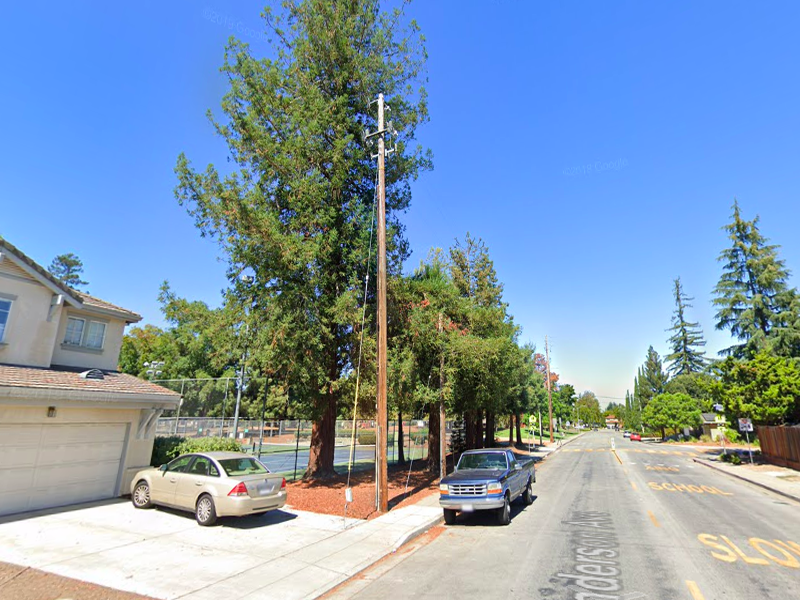tree: (156, 1, 436, 479)
utility_pole: (357, 88, 403, 171)
